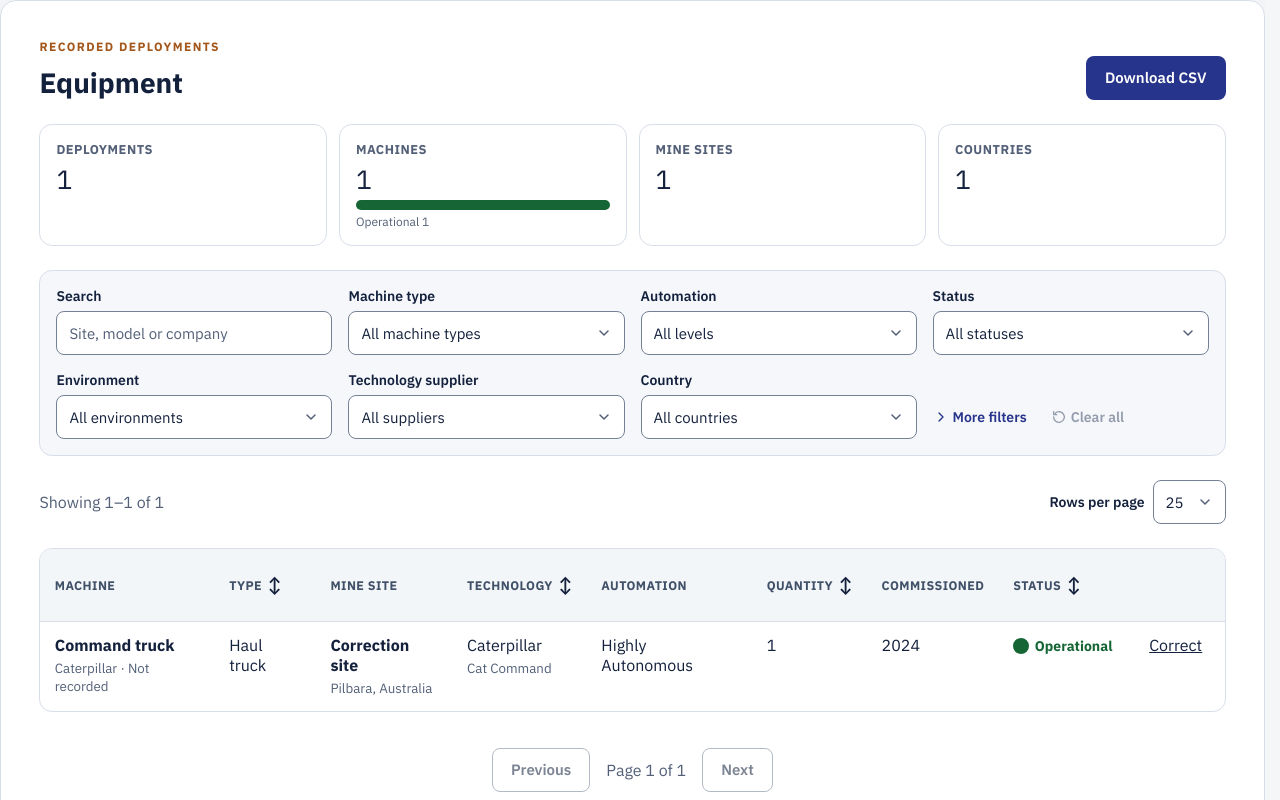
Scenario: EquipmentPage › opens the correction dialog and submits a pending-review correction
This screenshot has width=1280, height=800.
Click the button named "correct correction site" at (1176, 645), box top-left (1141, 623), bottom-right (1210, 667)
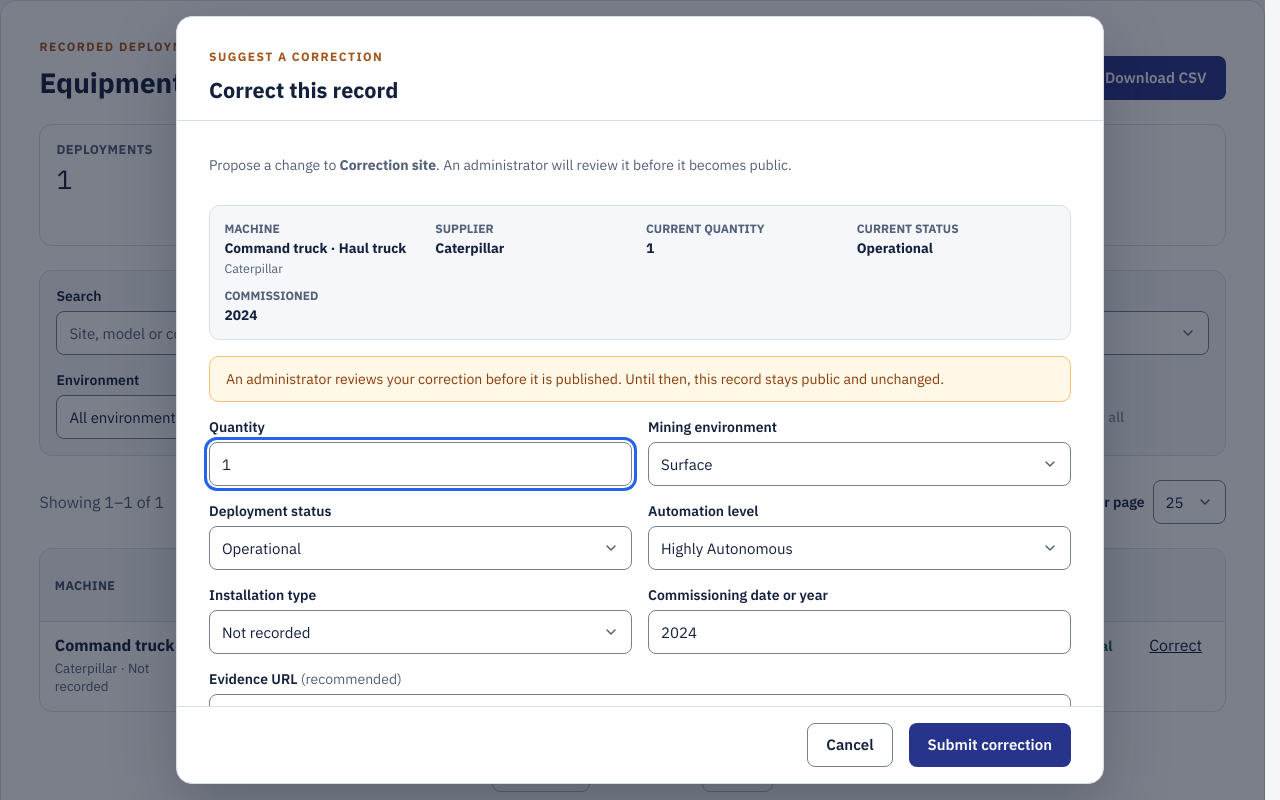
Expected: the dialog "Correct this record" is shown
Replace the text in the field labelled "Quantity" with "2" at (420, 464), box top-left (209, 442), bottom-right (632, 486)
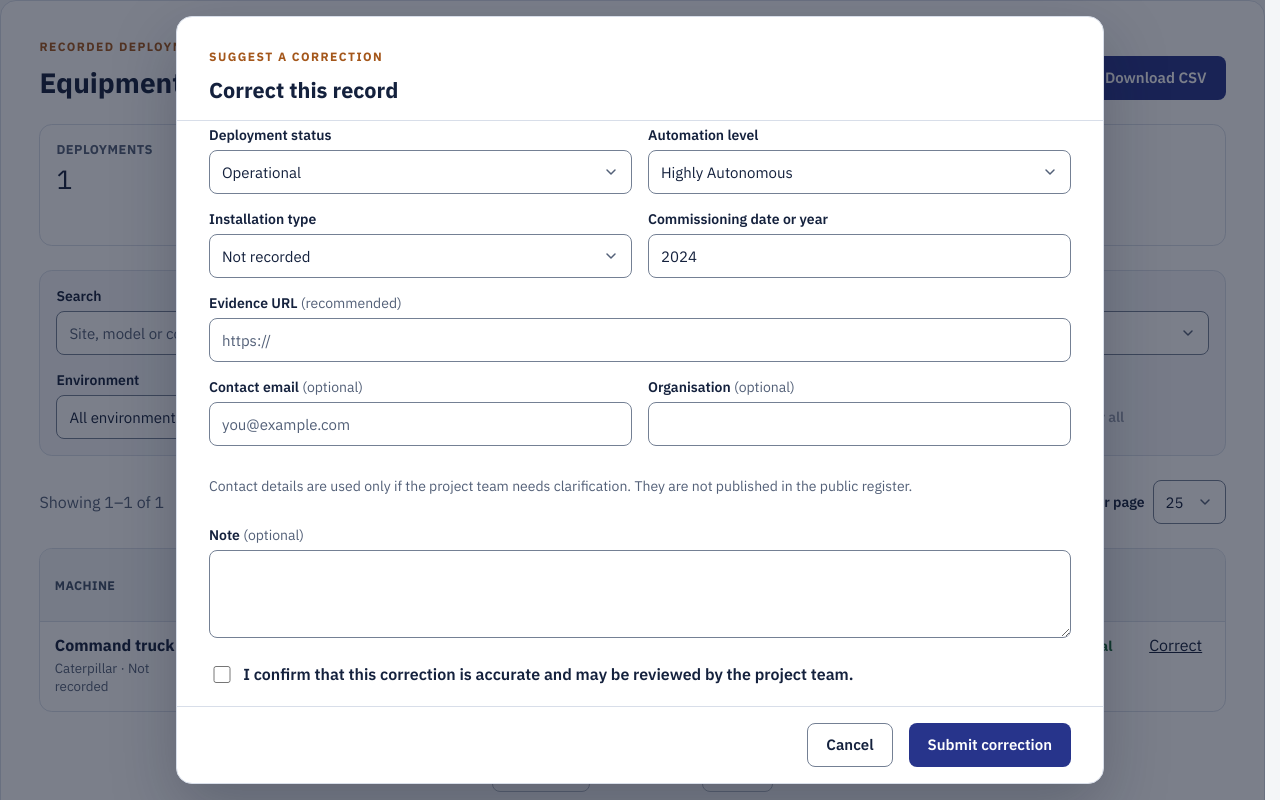
Type "field@example.com" into the field labelled "Contact email (optional)" at (420, 424), box top-left (209, 402), bottom-right (632, 446)
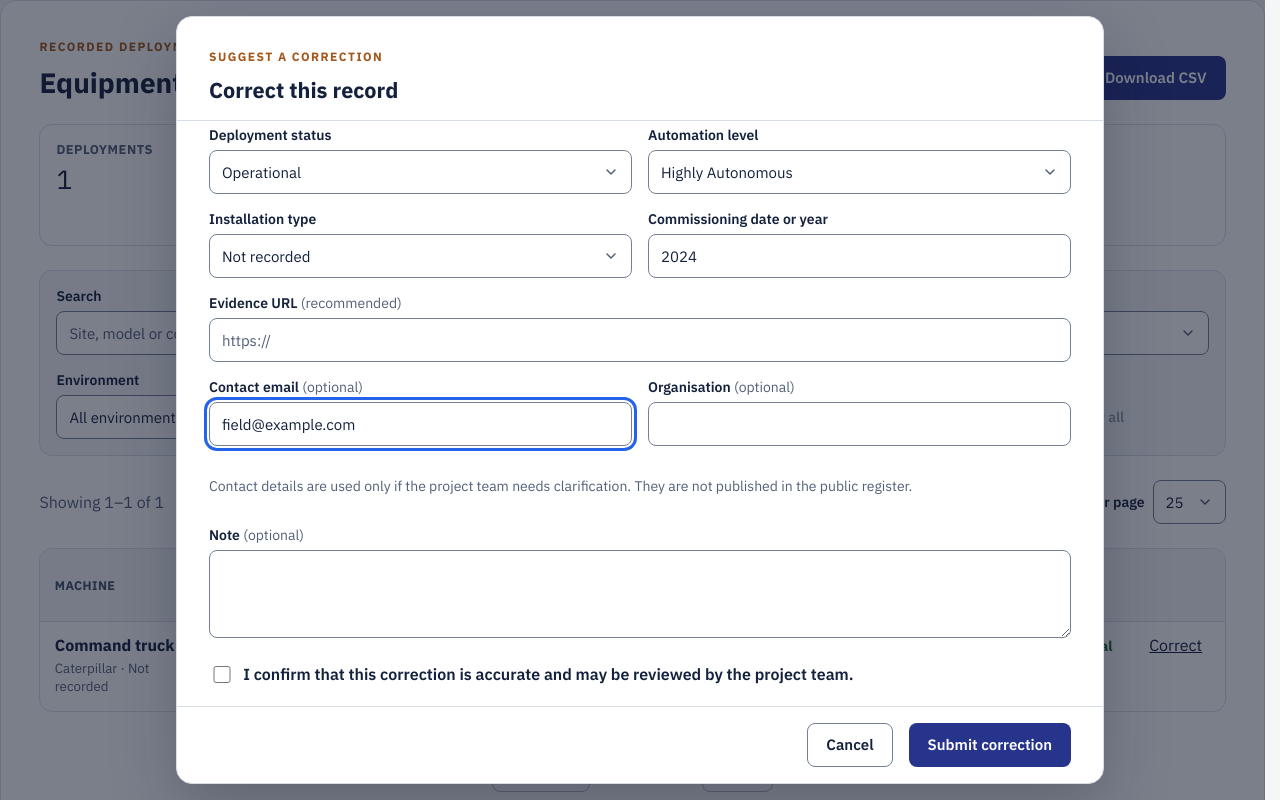
Type "Example Mining" into the field labelled "Organisation (optional)" at (860, 424), box top-left (648, 402), bottom-right (1071, 446)
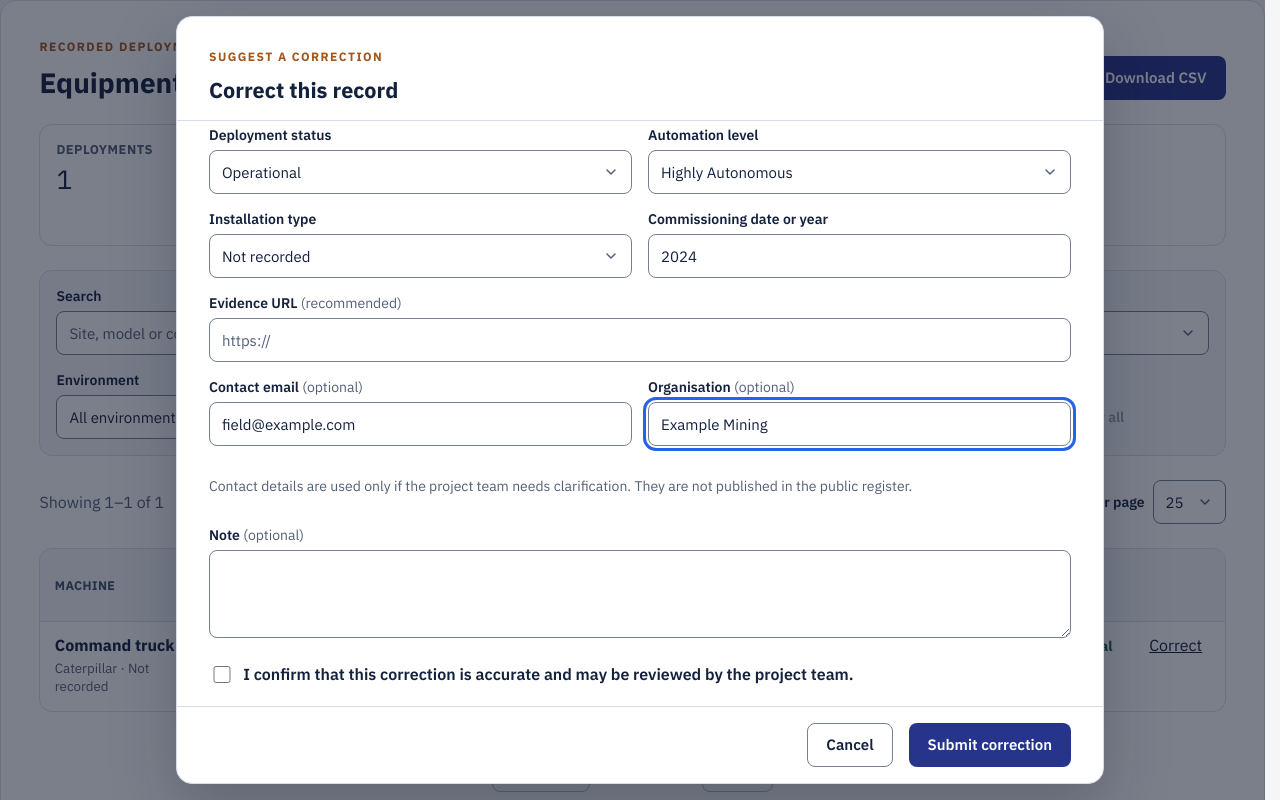
Click the checkbox at (222, 674), box top-left (213, 666), bottom-right (231, 683)
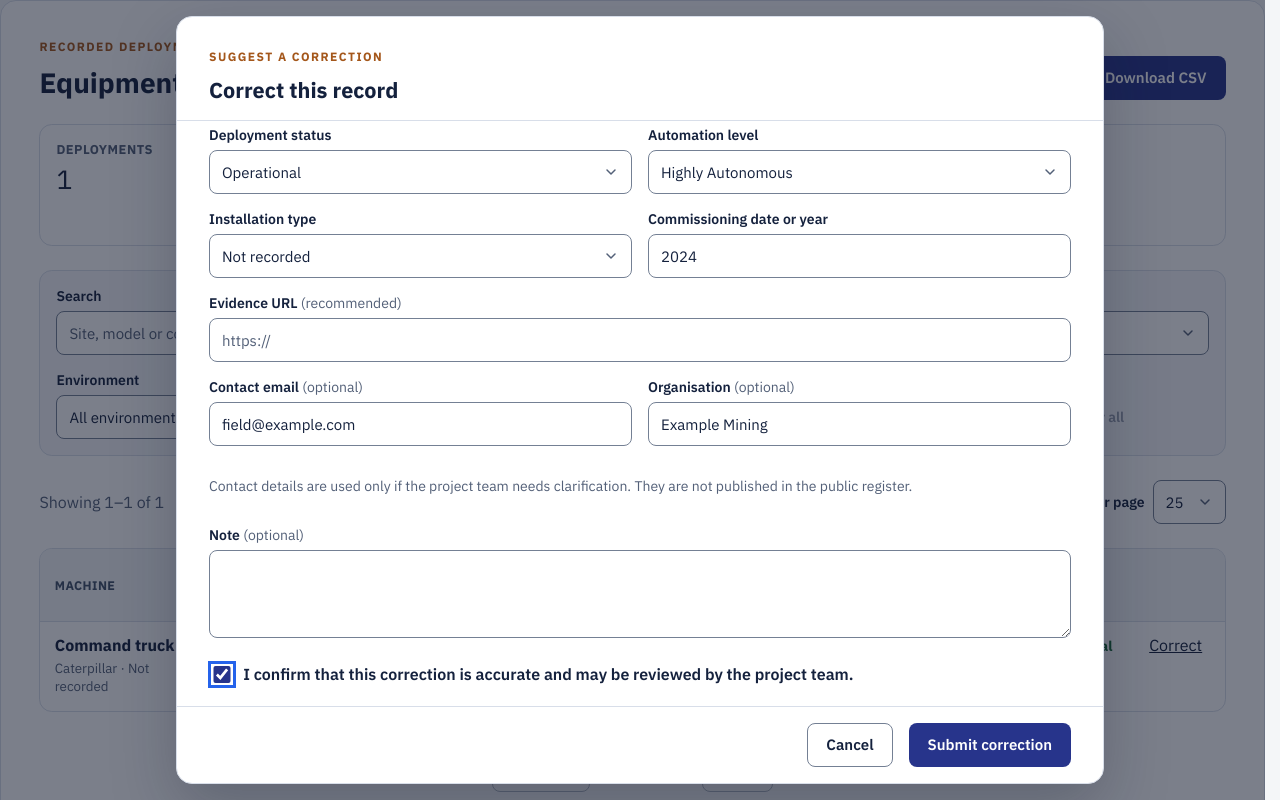
Click the button "Submit correction" at (990, 745), box top-left (909, 723), bottom-right (1071, 767)
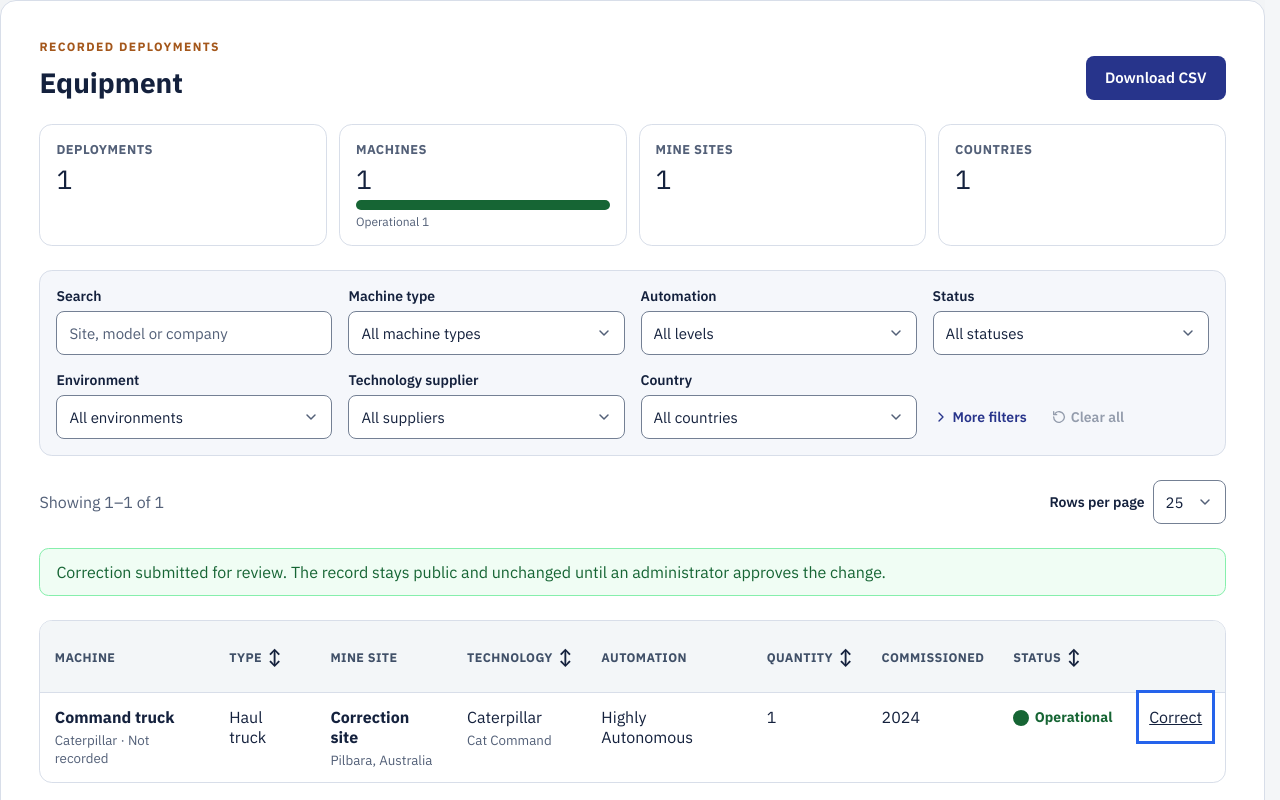
Expected: the button named "correct correction site" is shown, top-left (1141, 695), bottom-right (1210, 739)
Expected: the text "Correction submitted for review. The record stays public and unchanged until an administrator approves the change." is shown, top-left (56, 562), bottom-right (886, 582)
